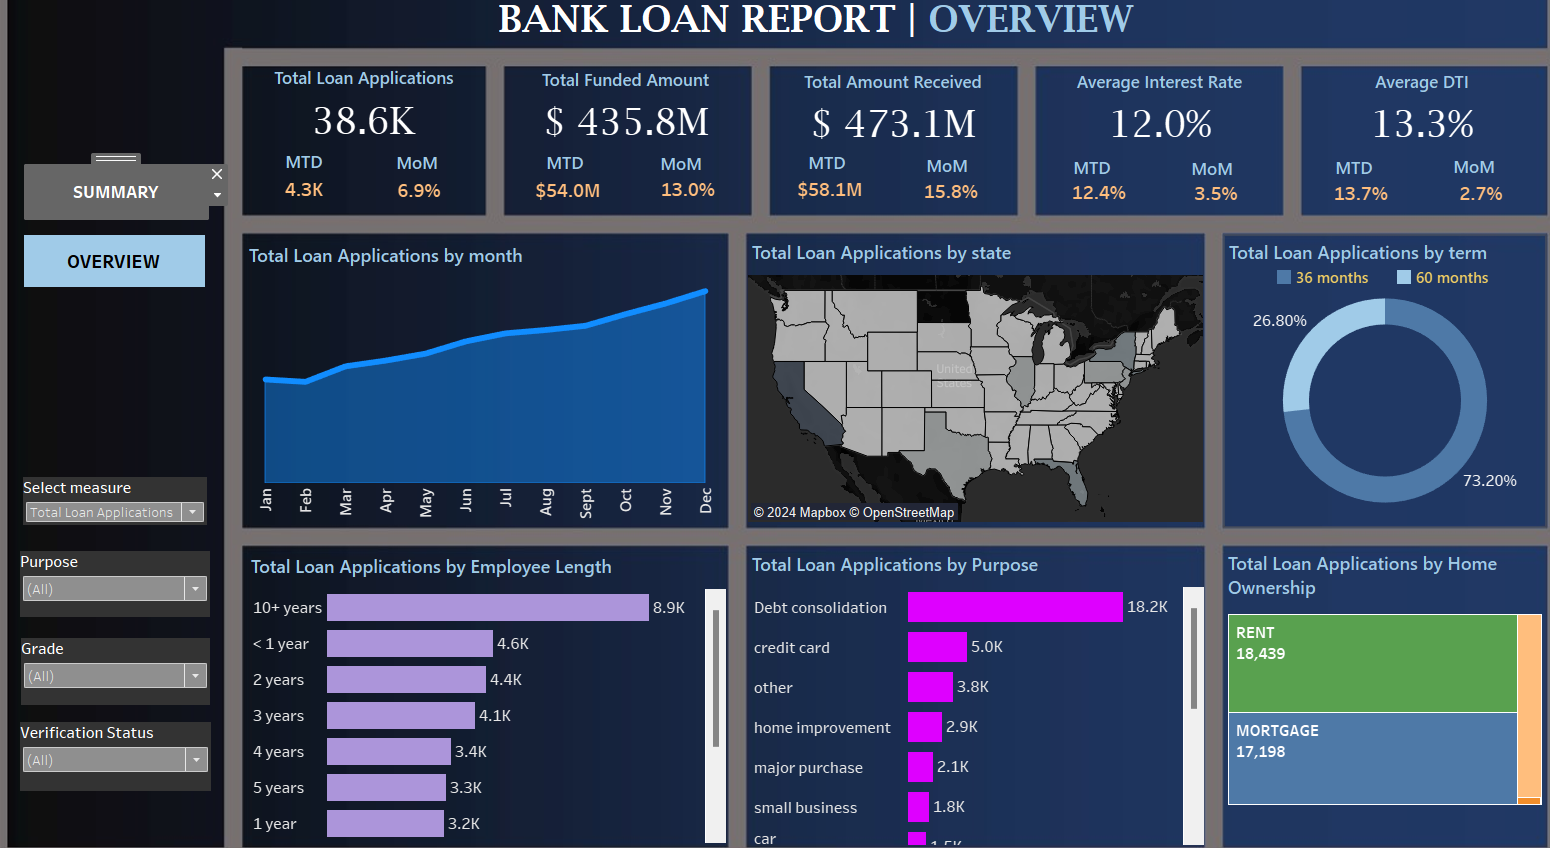

This screenshot's page, from the dashboard's own definition file:
{"tool":"tableau","page":{"name":"OVERVIEW","canvas":[1600,900],"ordinal":0},"visuals":[{"type":"image","param":"C:/Users/Nandika/OneDrive/Desktop/Bank loan analysis/Tableau Background 2.jpg","box":[8,8,1584,884]},{"type":"text","box":[517,24,684,54]},{"type":"worksheet","title":"Total Loan Applications","mark":"Automatic","box":[265,94,242,79]},{"type":"worksheet","title":"Total Funded Amount","mark":"Automatic","box":[531,96,233,78]},{"type":"worksheet","title":"Total Amount Received","mark":"Automatic","box":[805,98,220,78]},{"type":"worksheet","title":"Average Interest Rate","mark":"Automatic","box":[1090,98,183,77]},{"type":"worksheet","title":"Average DTI","mark":"Automatic","box":[1354,98,180,78]},{"type":"text","box":[304,178,45,30]},{"type":"text","box":[415,179,53,30]},{"type":"text","box":[565,179,45,30]},{"type":"text","box":[827,179,45,30]},{"type":"text","box":[679,180,53,30]},{"type":"text","box":[945,182,53,30]},{"type":"text","box":[1472,183,53,30]},{"type":"text","box":[1092,184,45,30]},{"type":"text","box":[1354,184,45,30]},{"type":"text","box":[1210,185,53,30]},{"type":"dashboard-object","box":[48,198,181,52]},{"type":"worksheet","title":"MTD Total Amount Received","mark":"Automatic","box":[805,202,93,38]},{"type":"worksheet","title":"MTD Total Loan Applications","mark":"Automatic","box":[293,203,66,35]},{"type":"worksheet","title":"MoM Loan Applications","mark":"Automatic","box":[407,204,68,35]},{"type":"worksheet","title":"MoM Total Funded Amount","mark":"Automatic","box":[675,205,69,32]},{"type":"worksheet","title":"MTD Total Funded Amount","mark":"Automatic","box":[544,206,91,32]},{"type":"worksheet","title":"MoM Total Amount Received","mark":"Automatic","box":[939,208,67,30]},{"type":"worksheet","title":"MTD Avg DTI","mark":"Automatic","box":[1348,209,69,31]},{"type":"worksheet","title":"MTD Avg Interest Rate","mark":"Automatic","box":[1088,211,66,26]},{"type":"worksheet","title":"MoM Average Interest Rate","mark":"Automatic","box":[1212,211,52,28]},{"type":"worksheet","title":"MoM Average DTI","mark":"Automatic","box":[1476,211,54,28]},{"type":"dashboard-object","box":[46,267,181,52]},{"type":"worksheet","title":"State","mark":"Multipolygon","box":[770,268,455,286]},{"type":"worksheet","title":"Term","mark":"Pie","rows":["Calculation_2231533646979870755","Calculation_2231533646979895333"],"box":[1247,268,320,290]},{"type":"worksheet","title":"Month","mark":"Area","rows":["Calculation_2231533646926614561","Calculation_2231533646926614561"],"cols":["issue_date"],"box":[267,271,480,284]},{"type":"legend","title":"Term","param":"[federated.1mc57rm0pl04dp11keiae19viinj].[none:term:nk]","box":[1296,299,247,26]},{"type":"parameter","param":"[Parameters].[Parameter 1]","box":[45,509,184,48]},{"type":"worksheet","title":"Home ownership","mark":"Automatic","box":[1246,579,321,299]},{"type":"worksheet","title":"Purpose","mark":"Automatic","rows":["purpose"],"cols":["Calculation_2231533646926614561"],"box":[770,580,456,297]},{"type":"worksheet","title":"Emp Length","mark":"Automatic","rows":["emp_length"],"cols":["Calculation_2231533646926614561"],"box":[269,582,479,293]},{"type":"filter","title":"Average DTI","param":"[federated.1mc57rm0pl04dp11keiae19viinj].[none:purpose:nk]","box":[42,583,190,66]},{"type":"filter","title":"Average DTI","param":"[federated.1mc57rm0pl04dp11keiae19viinj].[none:grade:nk]","box":[43,670,189,67]},{"type":"filter","title":"Average DTI","param":"[federated.1mc57rm0pl04dp11keiae19viinj].[none:verification_status:nk]","box":[42,754,191,69]}]}

Visuals, with their boxes on the page's 1600x900 design canvas (x1, y1, x2, y2). These are canvas units, not pixel positions in the 1550x848 screenshot, which may show the page scaled, cropped or inside an application window:
image: (8, 8, 1592, 892)
text: (517, 24, 1201, 78)
"Total Loan Applications" worksheet: (265, 94, 507, 173)
"Total Funded Amount" worksheet: (531, 96, 764, 174)
"Total Amount Received" worksheet: (805, 98, 1025, 176)
"Average Interest Rate" worksheet: (1090, 98, 1273, 175)
"Average DTI" worksheet: (1354, 98, 1534, 176)
text: (304, 178, 349, 208)
text: (415, 179, 468, 209)
text: (565, 179, 610, 209)
text: (827, 179, 872, 209)
text: (679, 180, 732, 210)
text: (945, 182, 998, 212)
text: (1472, 183, 1525, 213)
text: (1092, 184, 1137, 214)
text: (1354, 184, 1399, 214)
text: (1210, 185, 1263, 215)
dashboard-object: (48, 198, 229, 250)
"MTD Total Amount Received" worksheet: (805, 202, 898, 240)
"MTD Total Loan Applications" worksheet: (293, 203, 359, 238)
"MoM Loan Applications" worksheet: (407, 204, 475, 239)
"MoM Total Funded Amount" worksheet: (675, 205, 744, 237)
"MTD Total Funded Amount" worksheet: (544, 206, 635, 238)
"MoM Total Amount Received" worksheet: (939, 208, 1006, 238)
"MTD Avg DTI" worksheet: (1348, 209, 1417, 240)
"MTD Avg Interest Rate" worksheet: (1088, 211, 1154, 237)
"MoM Average Interest Rate" worksheet: (1212, 211, 1264, 239)
"MoM Average DTI" worksheet: (1476, 211, 1530, 239)
dashboard-object: (46, 267, 227, 319)
"State" worksheet (Multipolygon marks): (770, 268, 1225, 554)
"Term" worksheet (Pie marks): (1247, 268, 1567, 558)
"Month" worksheet (Area marks): (267, 271, 747, 555)
"Term" legend: (1296, 299, 1543, 325)
parameter: (45, 509, 229, 557)
"Home ownership" worksheet: (1246, 579, 1567, 878)
"Purpose" worksheet: (770, 580, 1226, 877)
"Emp Length" worksheet: (269, 582, 748, 875)
"Average DTI" filter: (42, 583, 232, 649)
"Average DTI" filter: (43, 670, 232, 737)
"Average DTI" filter: (42, 754, 233, 823)
